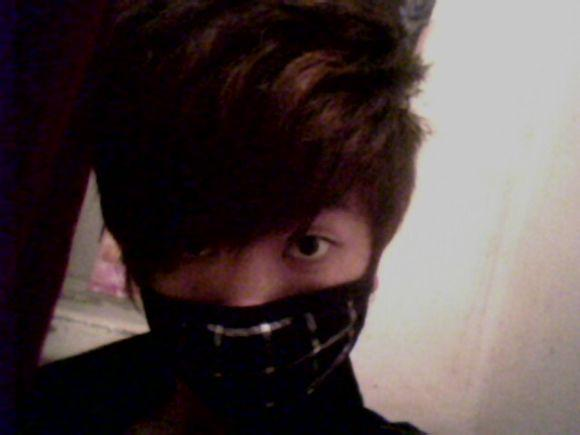WRONG: (137, 169, 370, 402)
